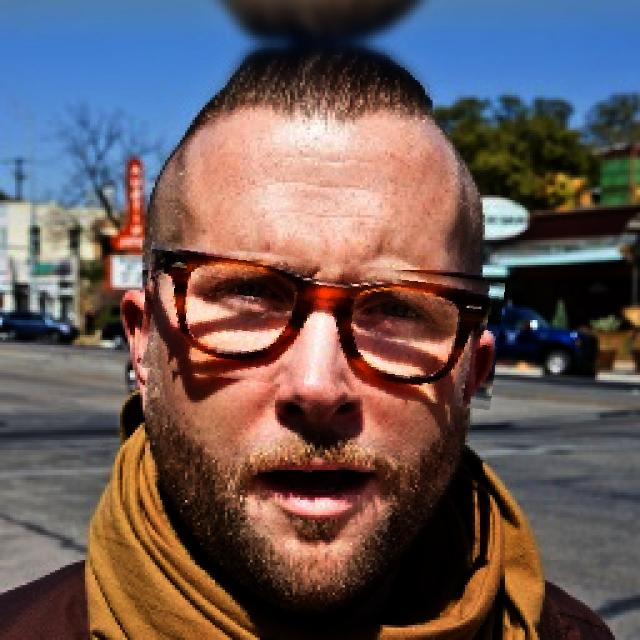glasses: (139, 250, 502, 400)
